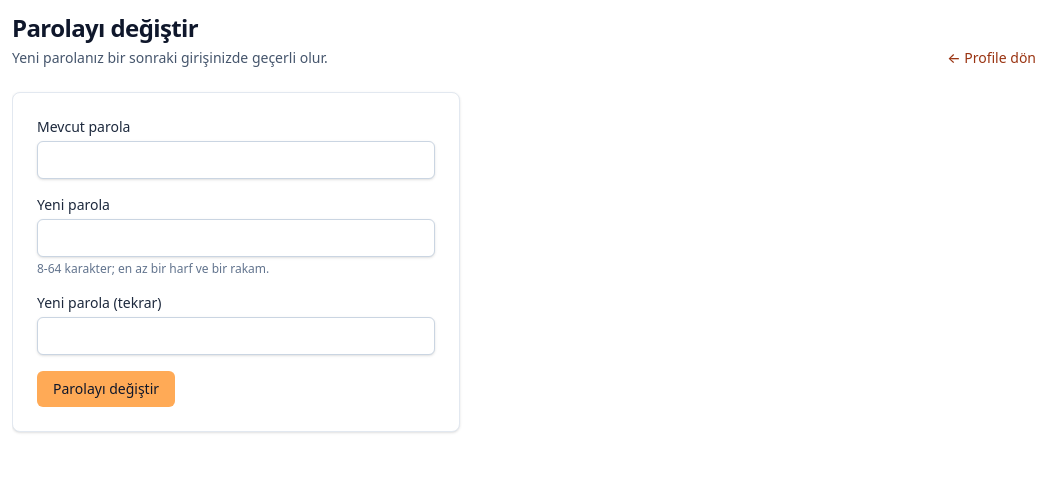
Test: ChangePasswordPage › links back to the profile
What coordinates should you click on to do the following:
click the link "← Profile dön"
I would click on:
 (992, 58)
Its box is [947,48,1036,68].
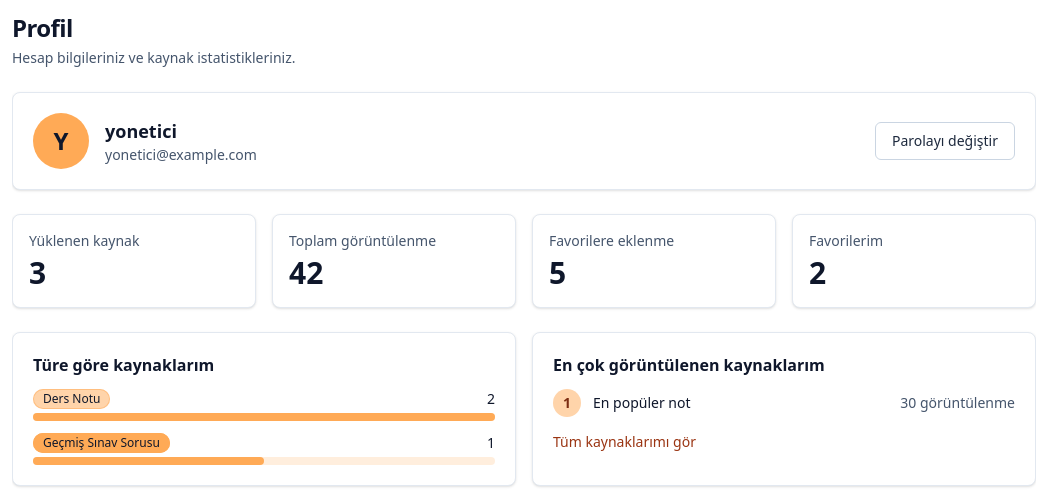
Check: the text "yonetici@example.com" is shown, box [105,145,257,165]
